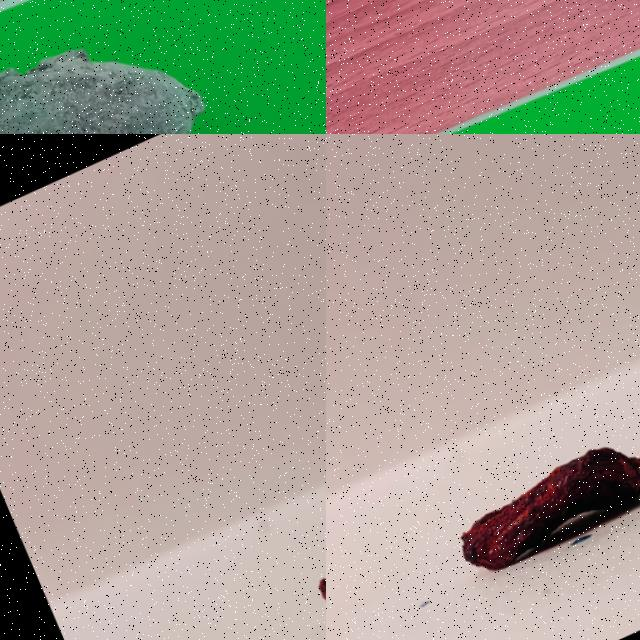Agglomerated_cocoabeans: (0, 0, 280, 133)
Fine_cocoabeans: (326, 105, 639, 133)
Flat_cocoabeans: (326, 299, 639, 639), (160, 426, 325, 639)
